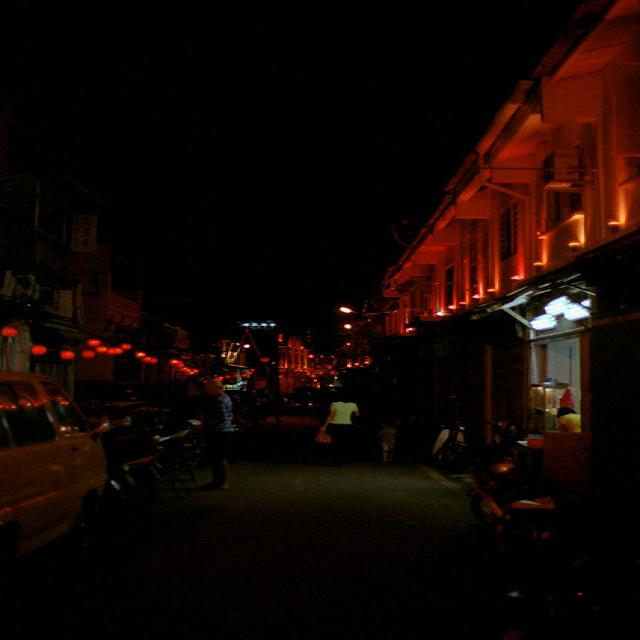Motorbike: (464, 454, 620, 573)
